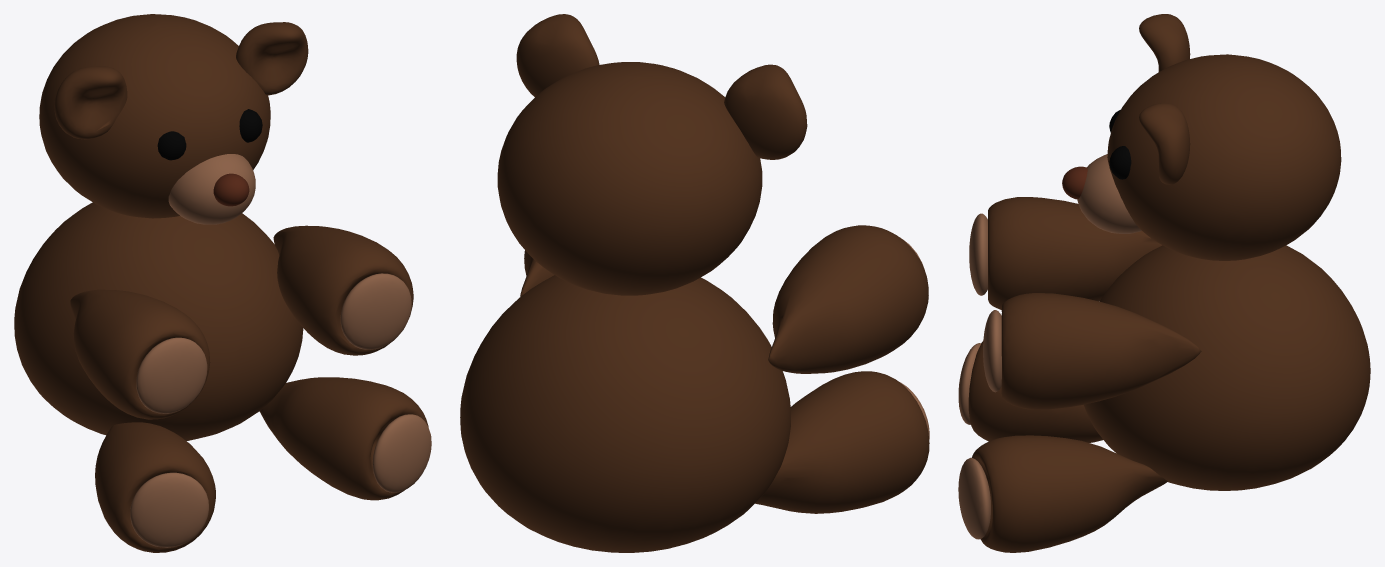
The model's file is teddy-bear.glb.
3 views of the same model, side by side, from view 1: azimuth 30°, elevation 25°; view 2: azimuth 150°, elevation 25°; view 3: azimuth 270°, elevation 25° (orthographic). The views are drawn at different scales.
Parts seen in each view (by area): view 1: Sphere.002, Sphere.005, Sphere.001, Sphere.004; view 2: Sphere.002; view 3: Sphere.002, Sphere.005, Sphere.001, Sphere.004.
Boxes of the visible parts, x1=… form: Sphere.002: x1=14, y1=14, x2=428, y2=552; Sphere.005: x1=130, y1=154, x2=431, y2=547; Sphere.001: x1=157, y1=109, x2=262, y2=160; Sphere.004: x1=213, y1=173, x2=249, y2=206; Sphere.002: x1=460, y1=14, x2=929, y2=552; Sphere.002: x1=968, y1=14, x2=1370, y2=552; Sphere.005: x1=958, y1=154, x2=1141, y2=539; Sphere.001: x1=1109, y1=109, x2=1131, y2=179; Sphere.004: x1=1062, y1=166, x2=1087, y2=199.
Size of the model in its own units: 3.13 by 3.99 by 3.48.
